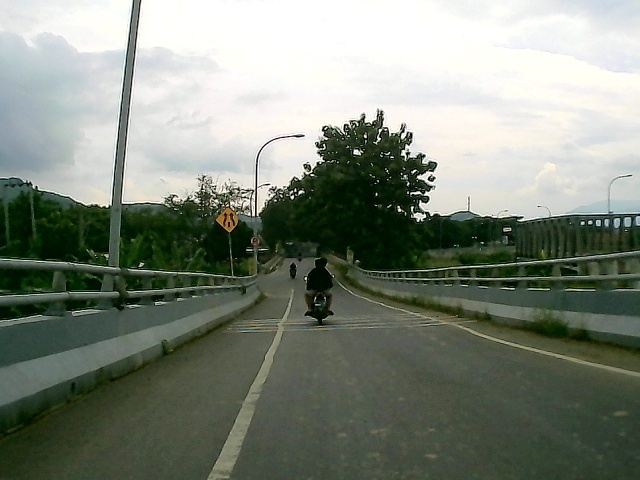Akhir bangunan pemisah satu arah: (211, 206, 243, 236)
